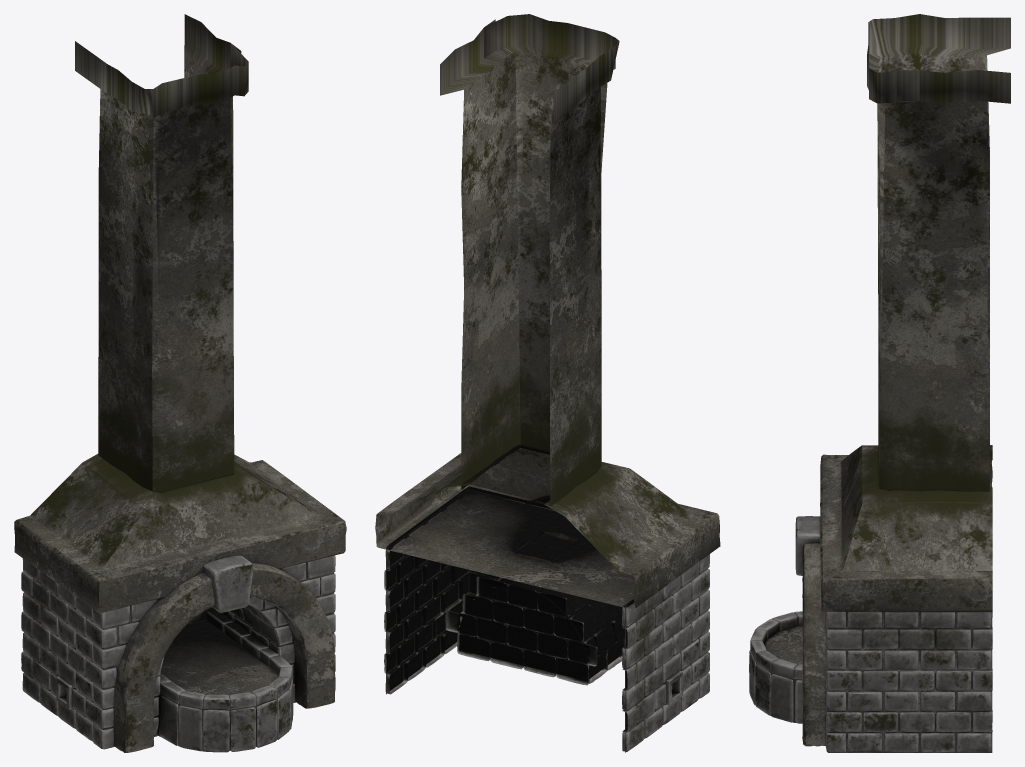
3 renders of one model, left to right at view 1: azimuth 30°, elevation 25°; view 2: azimuth 150°, elevation 25°; view 3: azimuth 270°, elevation 25°, orthographic. The views are drawn at different scales.
Parts seen in each view (by area): view 1: Forge; view 2: Forge; view 3: Forge.
Part boxes in pixels (x1,y1,x2,y2): Forge: (14,14,346,752); Forge: (375,14,720,752); Forge: (749,14,1010,752).
Bounding box in the file's own units: 334 × 807 × 294.
